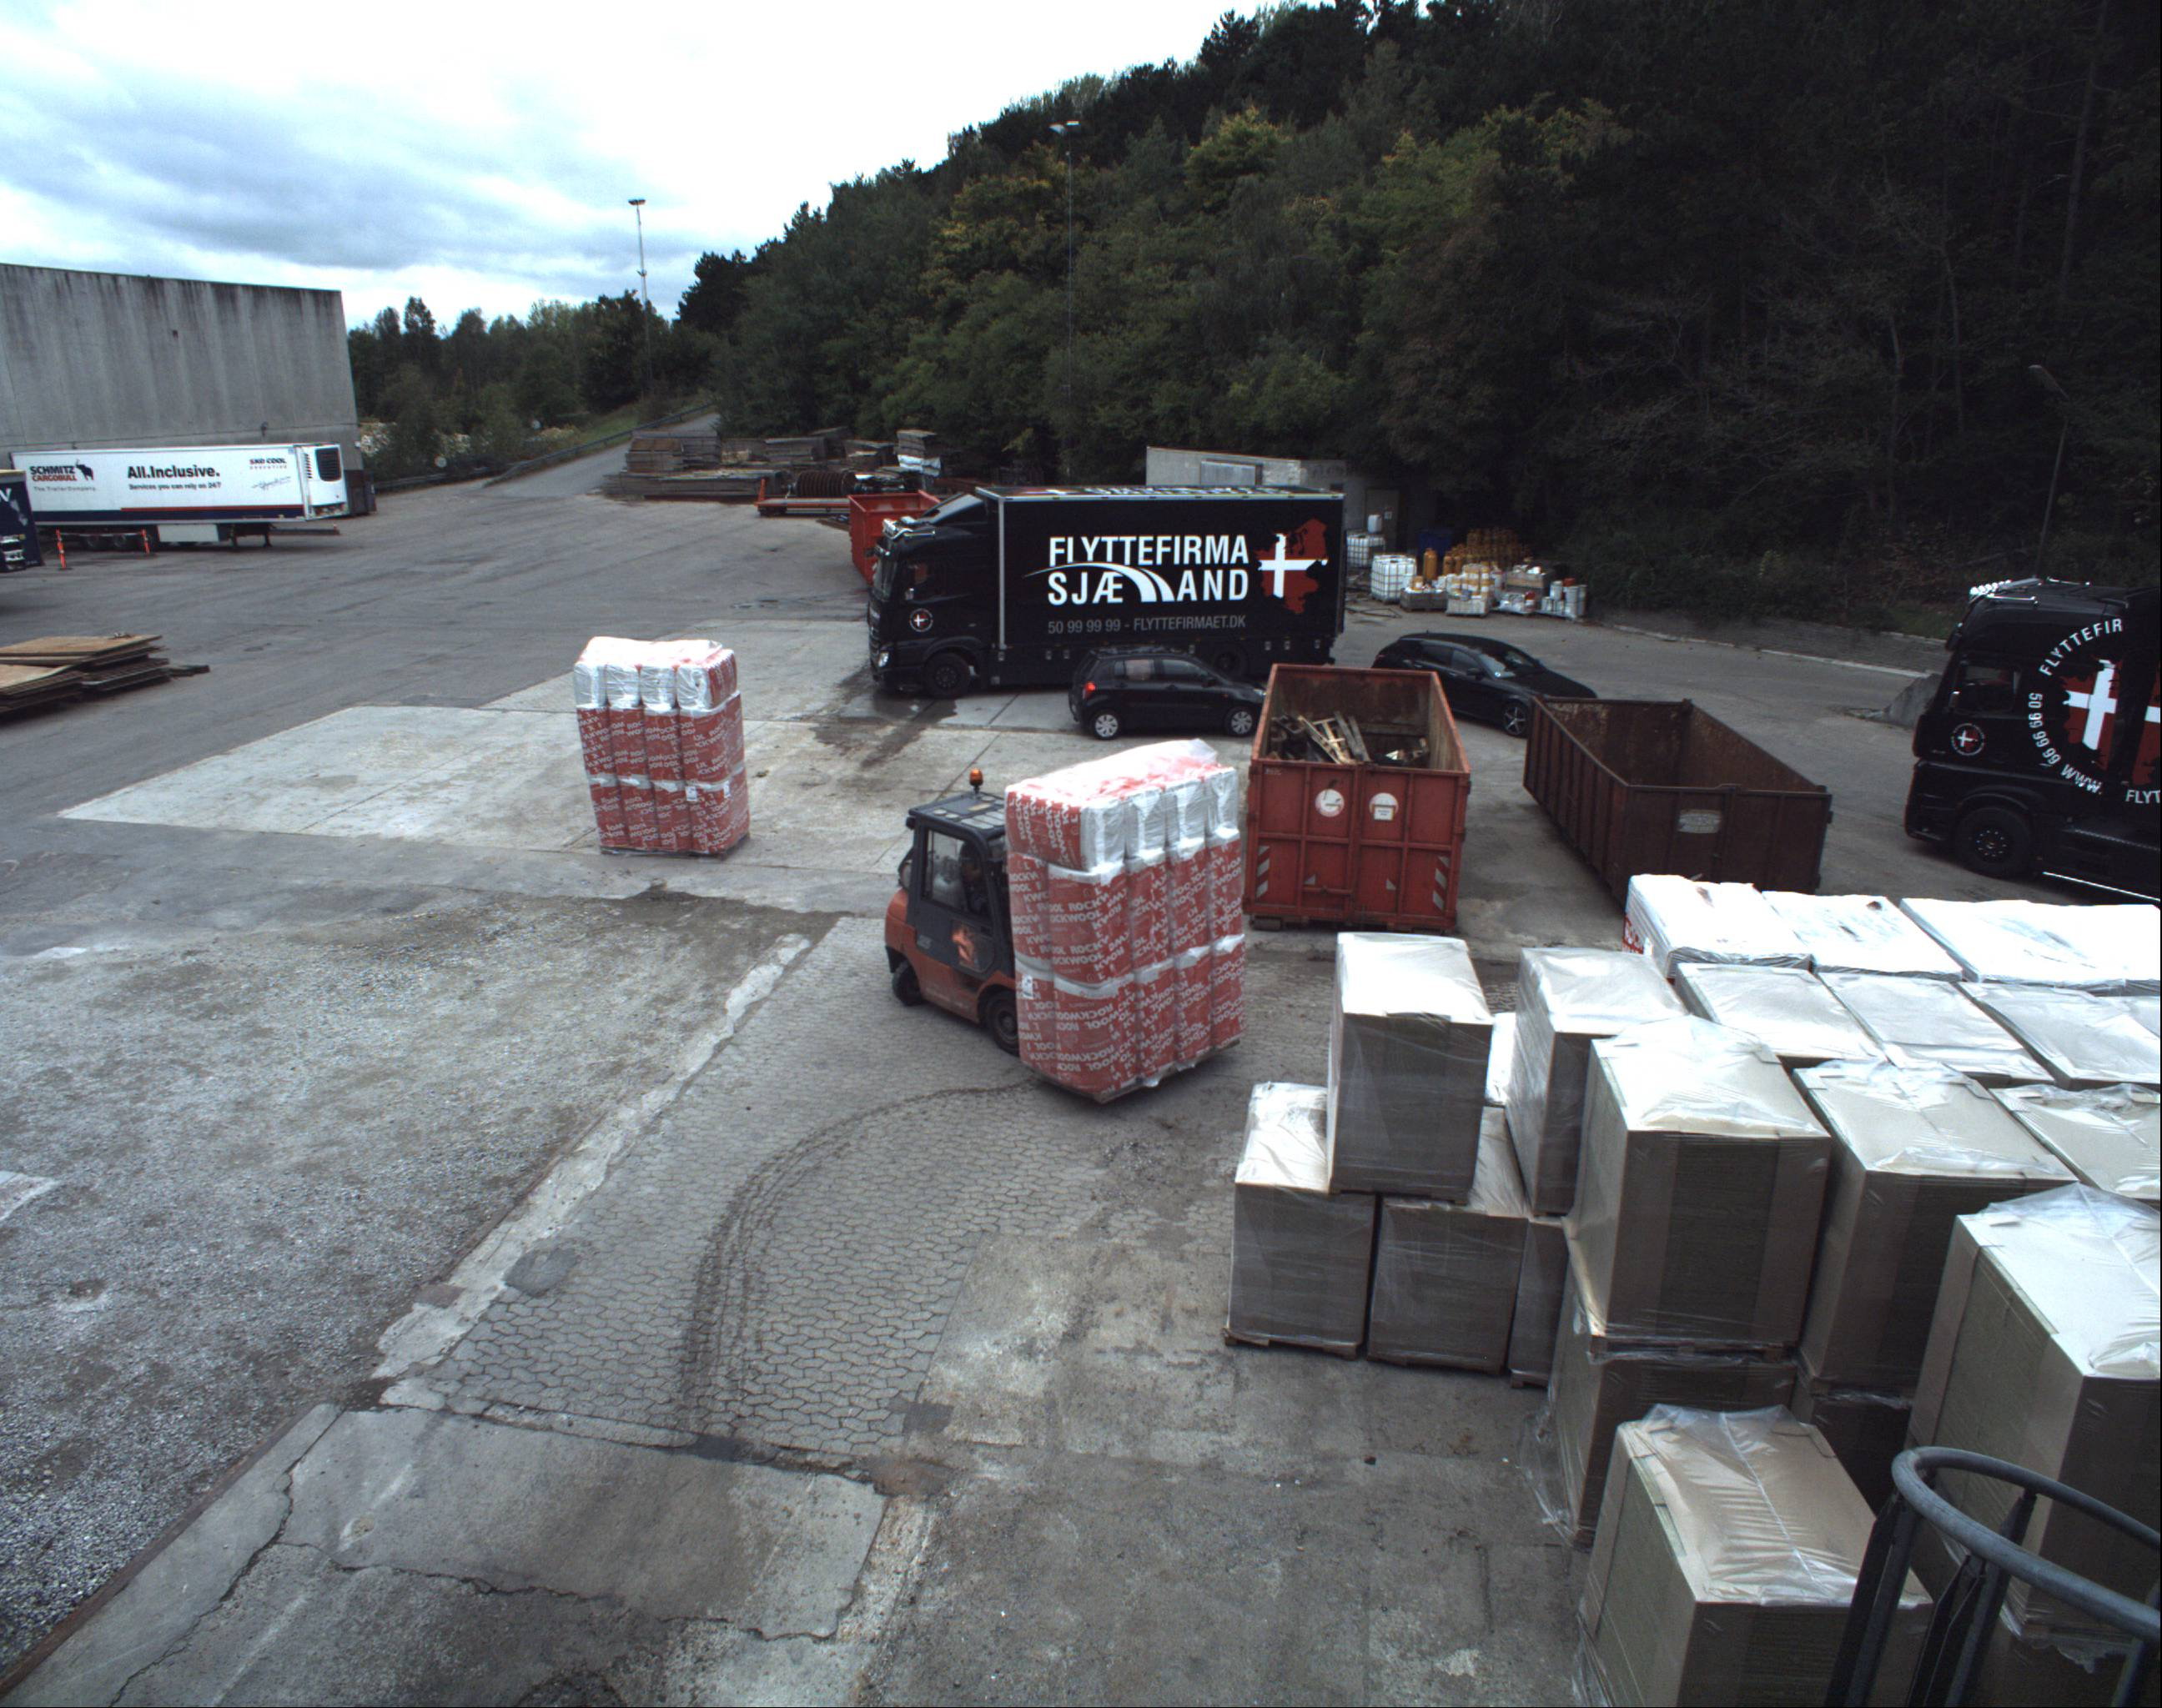rockwool_batts: (1013, 737, 1249, 1097), (579, 635, 742, 851)
